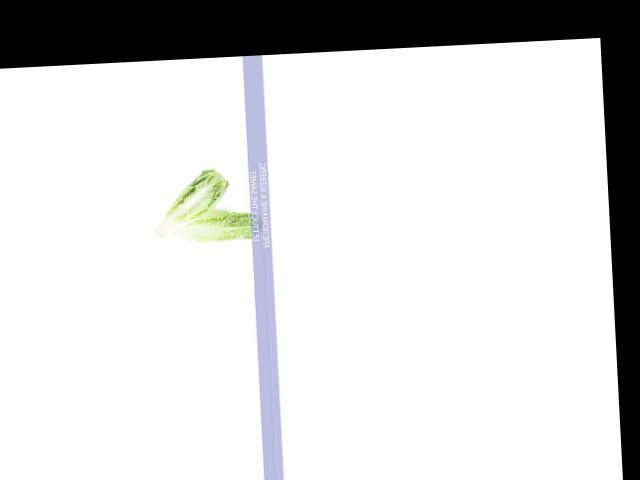lettuce: (140, 171, 236, 238)
